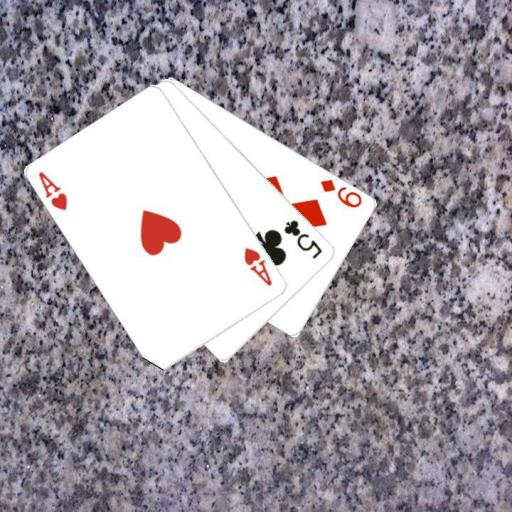5C: (281, 216, 324, 260)
9D: (317, 176, 364, 210)
AH: (241, 244, 275, 288), (36, 168, 70, 212)
